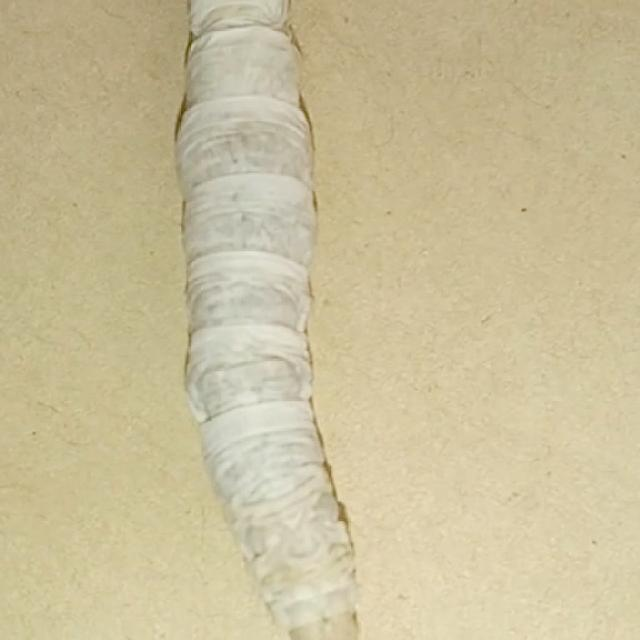Grasserie: (143, 3, 415, 637)
